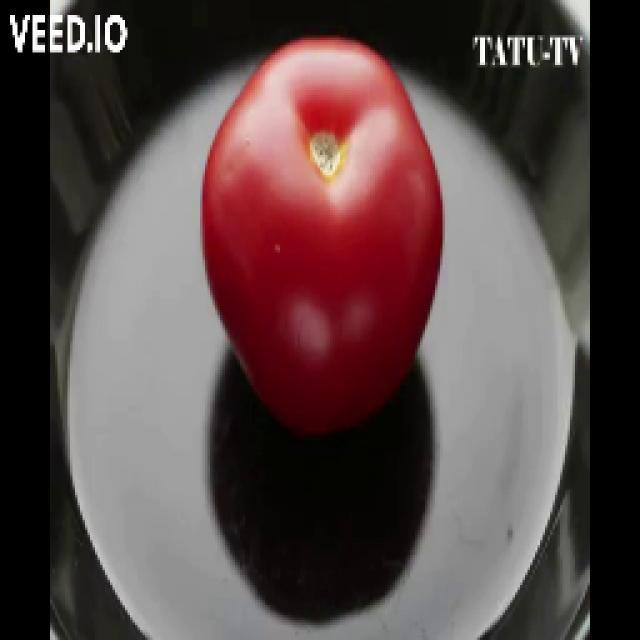tomato: (199, 37, 444, 443)
